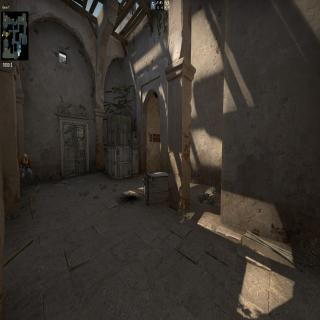T-Head: (24, 153, 28, 162)
